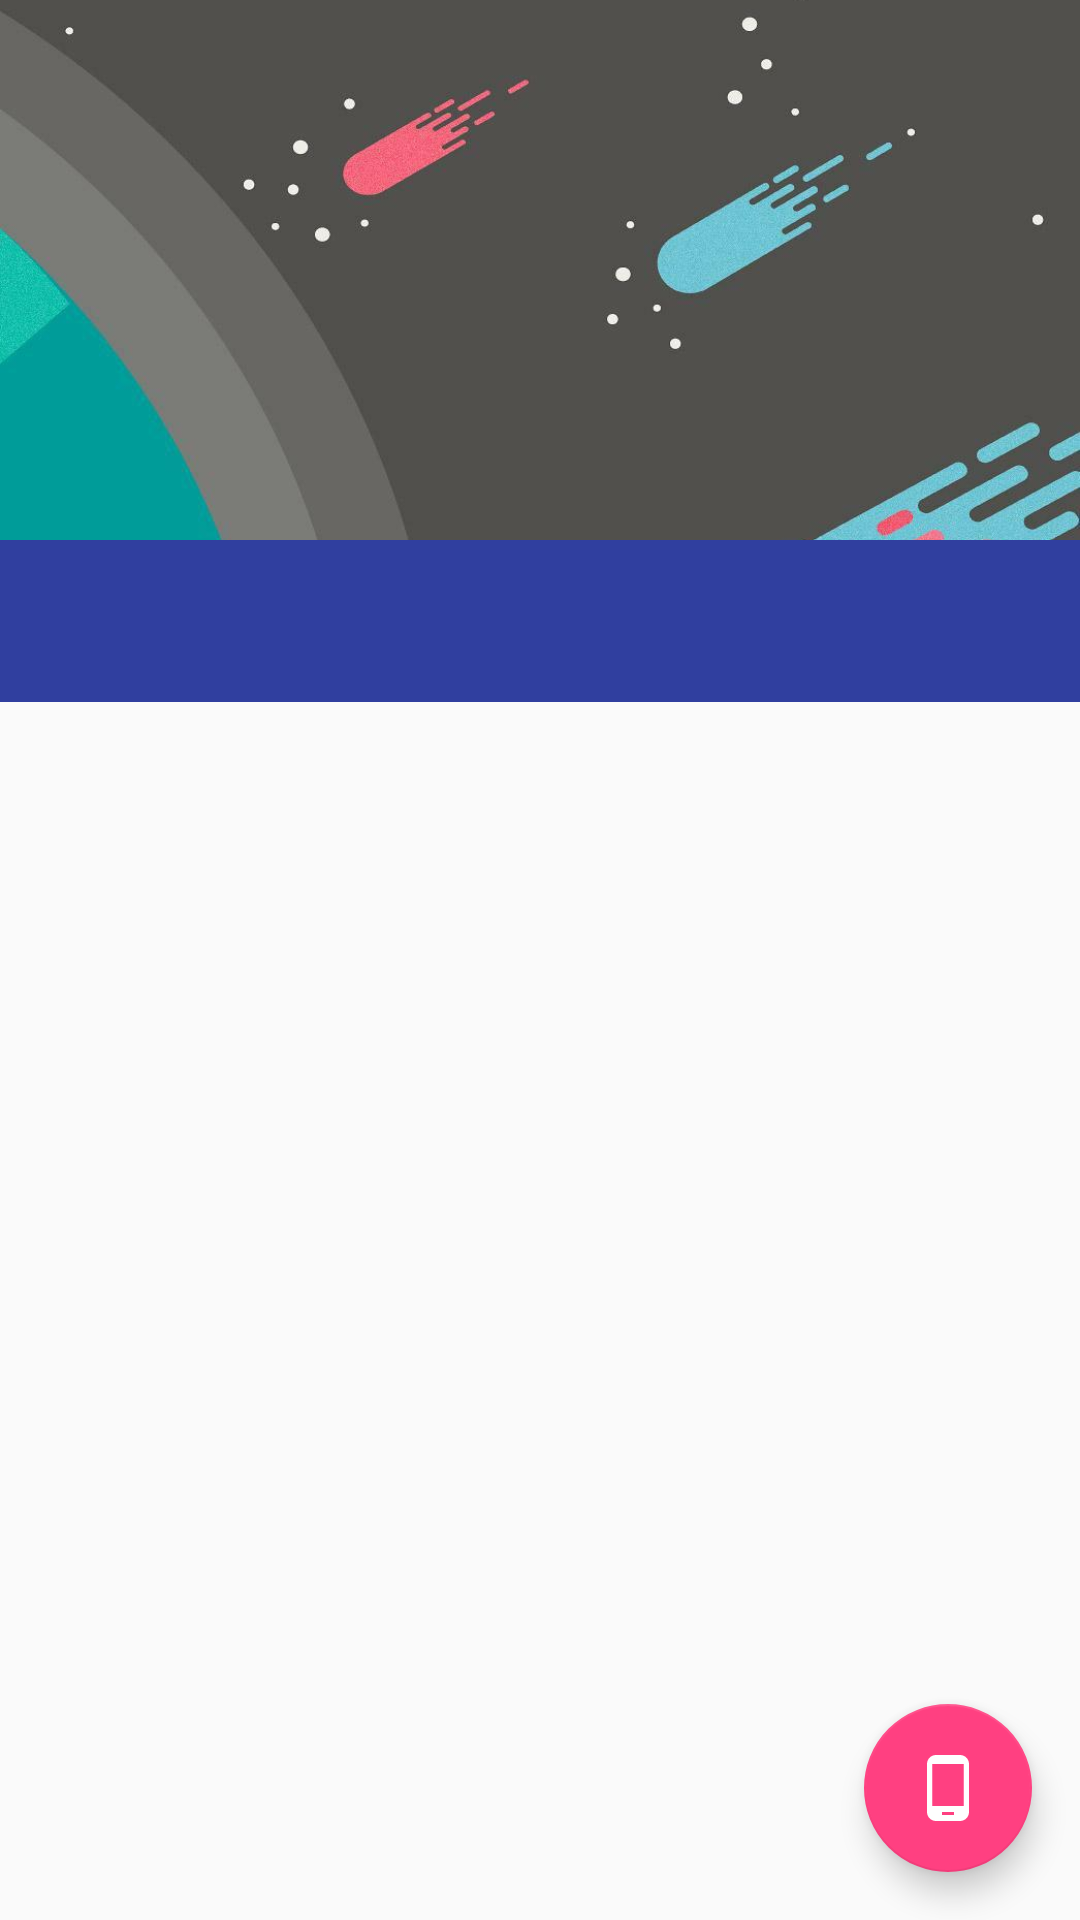

Where icons sit on this 1080 × 1920 app screen, as (x1, y1, x2, y2):
phone android: (864, 1704, 1032, 1872)
